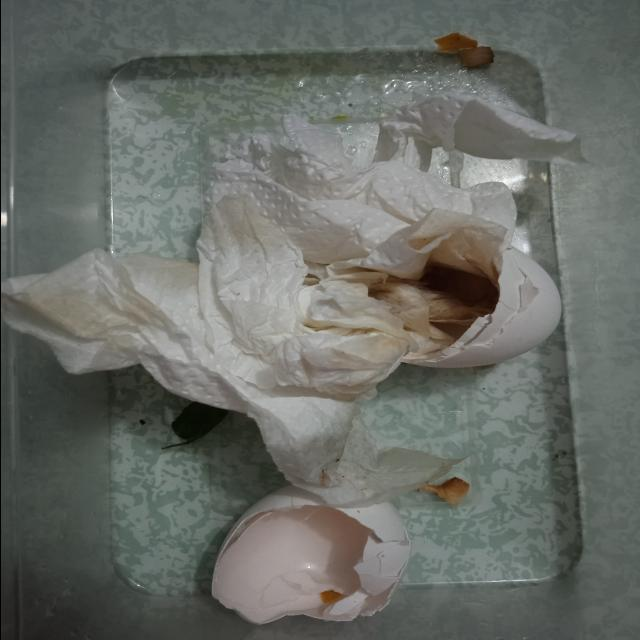egg shell: (208, 480, 412, 622), (398, 233, 564, 366)
